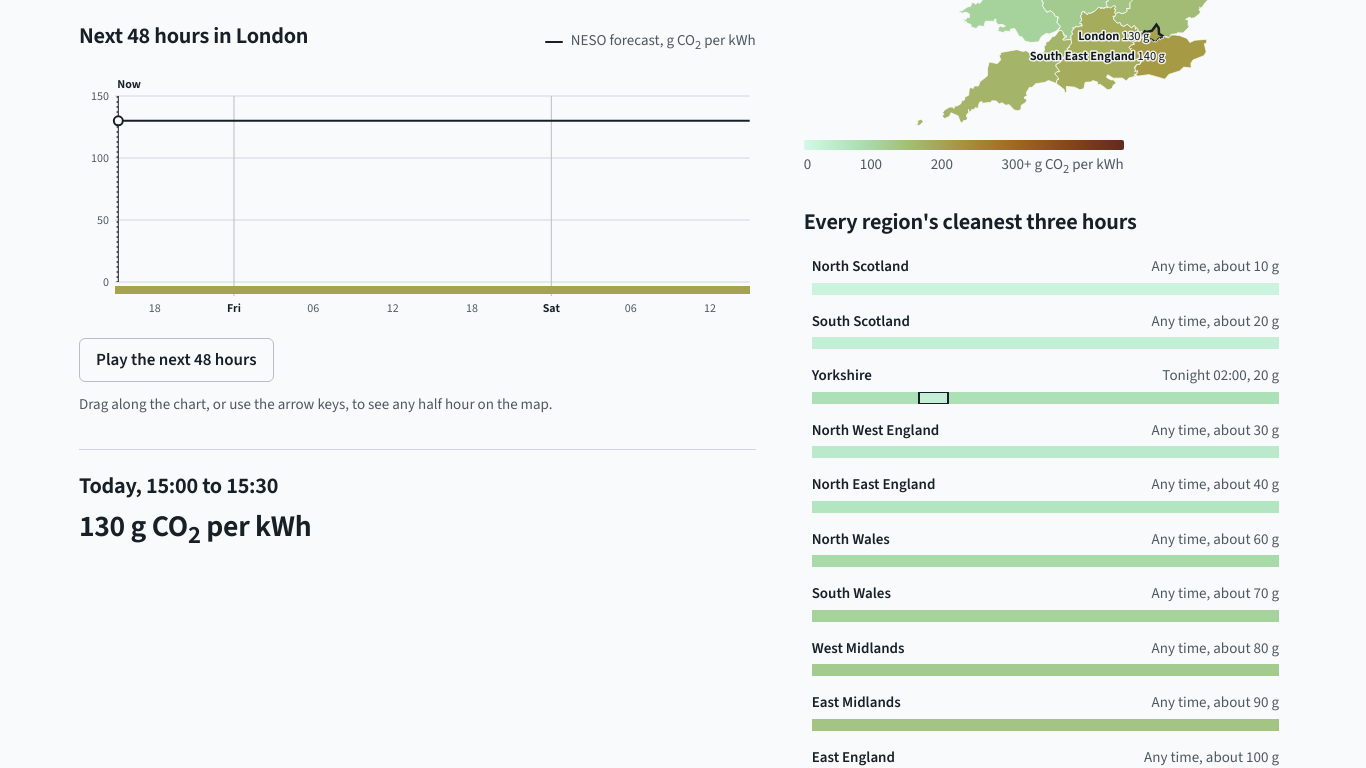
keeps the chosen length when the region changes
(page scrolled)
expect the heading "Next 48 hours in London" is shown: met, box [79,24,308,50]
Click the button "Yorkshire Tonight 02:00, 20 g". click: (842, 376)
box: [804,357,1287,412]
(page scrolled)
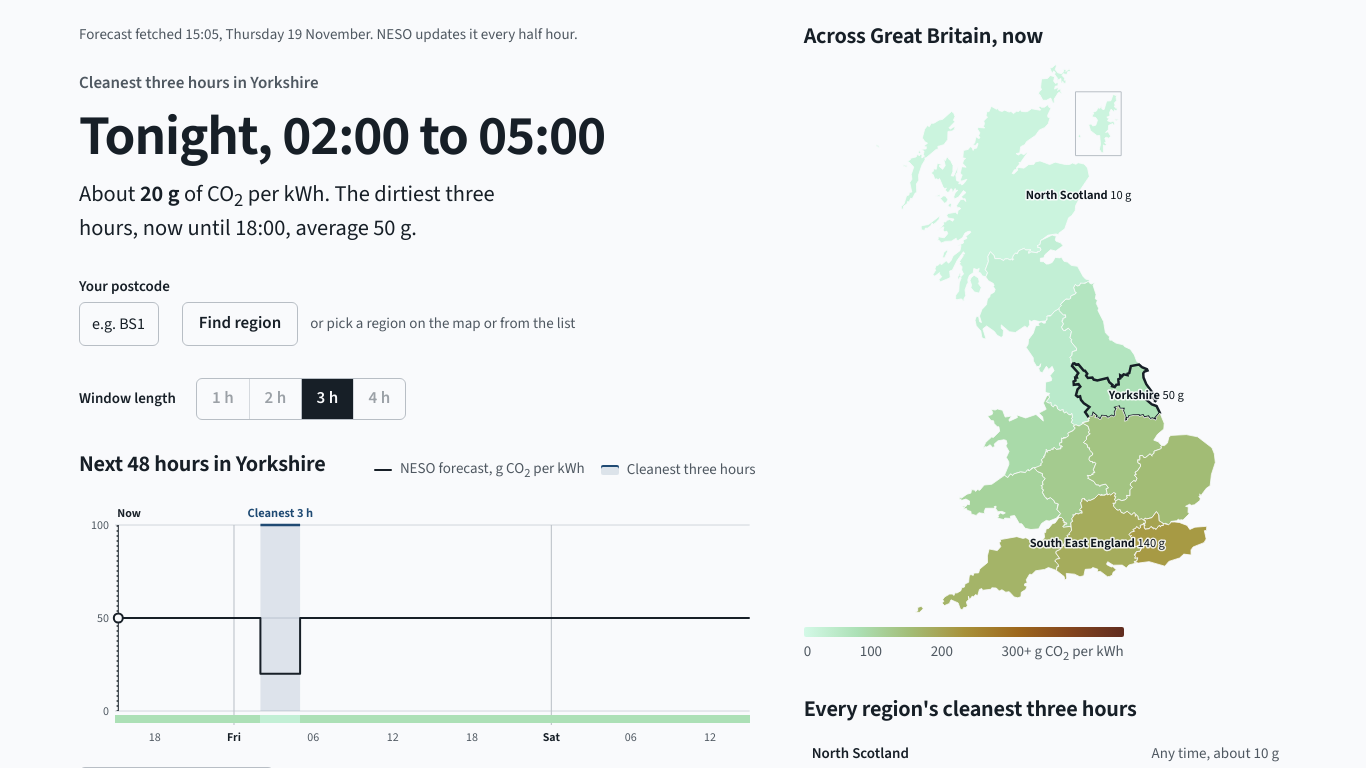
expect the heading "Tonight, 02:00 to 05:00" is shown: met, box [79,97,605,176]
